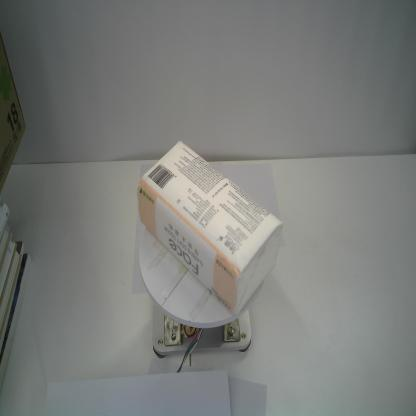Tissue: (136, 137, 288, 321)
